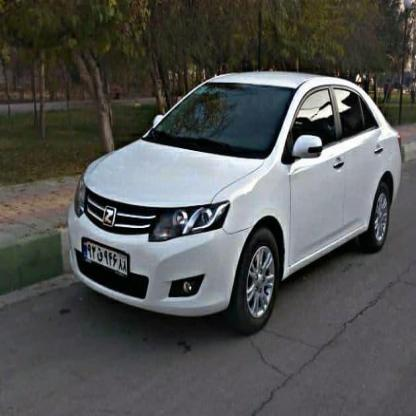Car: (63, 75, 404, 329)
